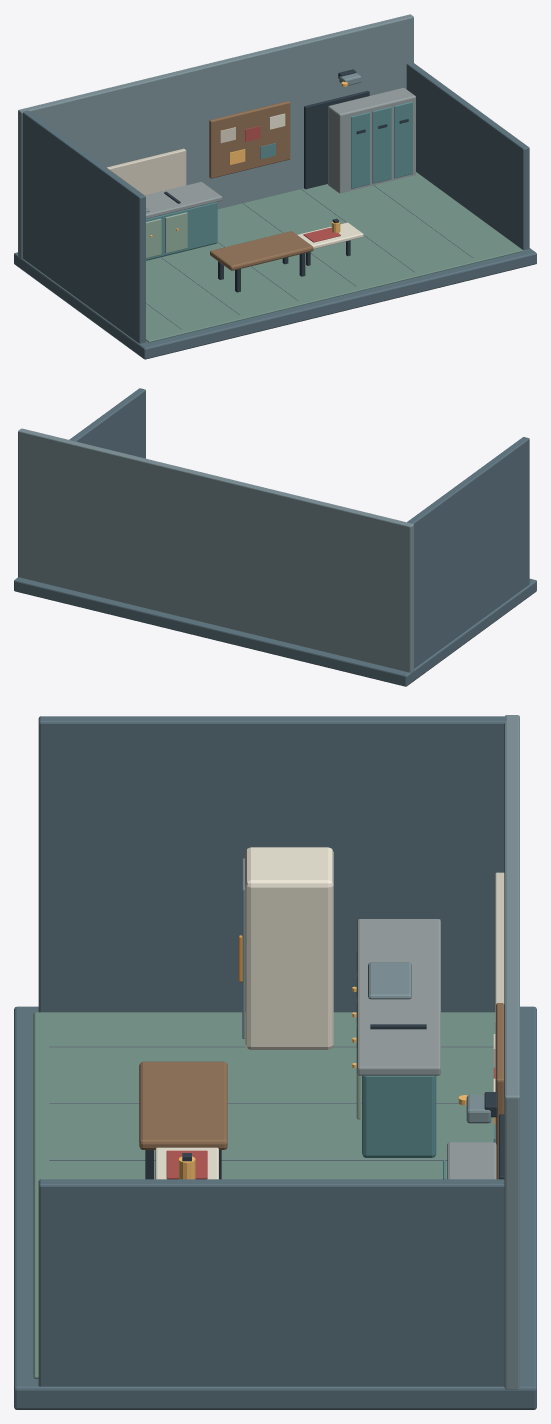
File: archival_cutaway_room.glb
3 views of the same model, one above another, from view 1: azimuth 30°, elevation 25°; view 2: azimuth 150°, elevation 25°; view 3: azimuth 270°, elevation 25° (orthographic). The views are drawn at different scales.
Visible parts, largest first — view 1: FloorInset, BackWall, LeftWall, RightWall, Floor, Noticeboard, LockerBank, KitchenBack, HallOpening, DiningTable, KitchenCounter, CounterTop (+6 smaller); view 2: BackWall, LeftWall, Floor, RightWall; view 3: LeftWall, RightWall, FloorInset, Floor, Fridge, CounterTop, BackWall, DiningTable, KitchenCounter, LockerBank, Sink, KitchenBack (+3 smaller).
Boxes of the visible parts, box(x1,y1,x2,y2) form: FloorInset: box(146, 172, 522, 342); BackWall: box(18, 14, 413, 259); LeftWall: box(22, 110, 145, 343); RightWall: box(406, 62, 529, 249); Floor: box(14, 176, 536, 359); Noticeboard: box(209, 101, 290, 178); LockerBank: box(328, 87, 415, 193); KitchenBack: box(107, 148, 186, 195); HallOpening: box(304, 90, 369, 189); DiningTable: box(210, 231, 313, 270); KitchenCounter: box(146, 202, 217, 260); CounterTop: box(145, 182, 222, 219); BackWall: box(18, 428, 413, 673); LeftWall: box(407, 437, 529, 668); Floor: box(14, 577, 536, 686); RightWall: box(69, 388, 145, 458); LeftWall: box(38, 716, 506, 1012); RightWall: box(38, 1179, 504, 1386); FloorInset: box(33, 1012, 495, 1378); Floor: box(14, 1006, 536, 1409); Fridge: box(245, 847, 333, 1049); CounterTop: box(357, 919, 440, 1075); BackWall: box(504, 715, 519, 1389); DiningTable: box(139, 1061, 227, 1149); KitchenCounter: box(362, 1075, 436, 1157); LockerBank: box(447, 1142, 496, 1179); Sink: box(368, 962, 411, 999); KitchenBack: box(495, 872, 504, 1142).
Size of the model in its own units: 12.8 by 4.91 by 7.4.
